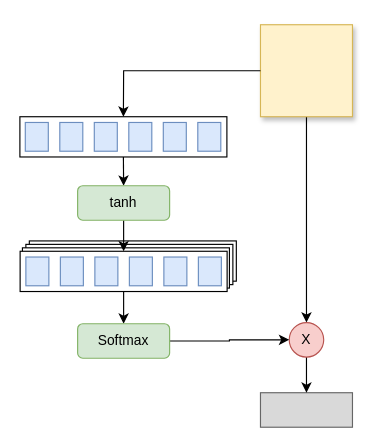
This 381x447 diagram has some shape labels left out. The shapes that lost their labels are listed below. From the top down, each one's centre as x and y in pixels, then its label:
At (x=307, y=72): "CNN Module".
At (x=305, y=409): "Dense".
